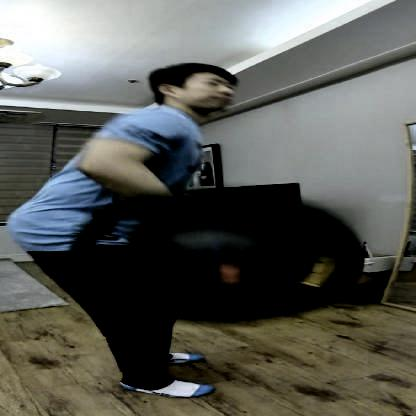Barbell: (198, 258, 252, 291)
